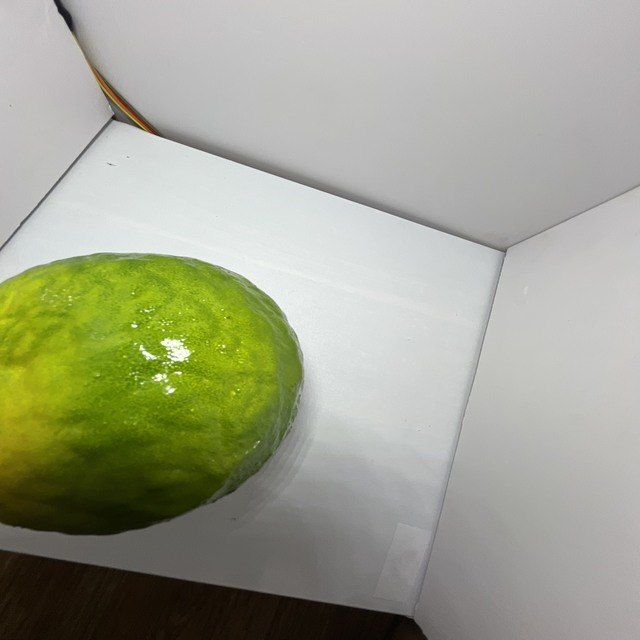Cam xanh: (0, 249, 307, 541)
